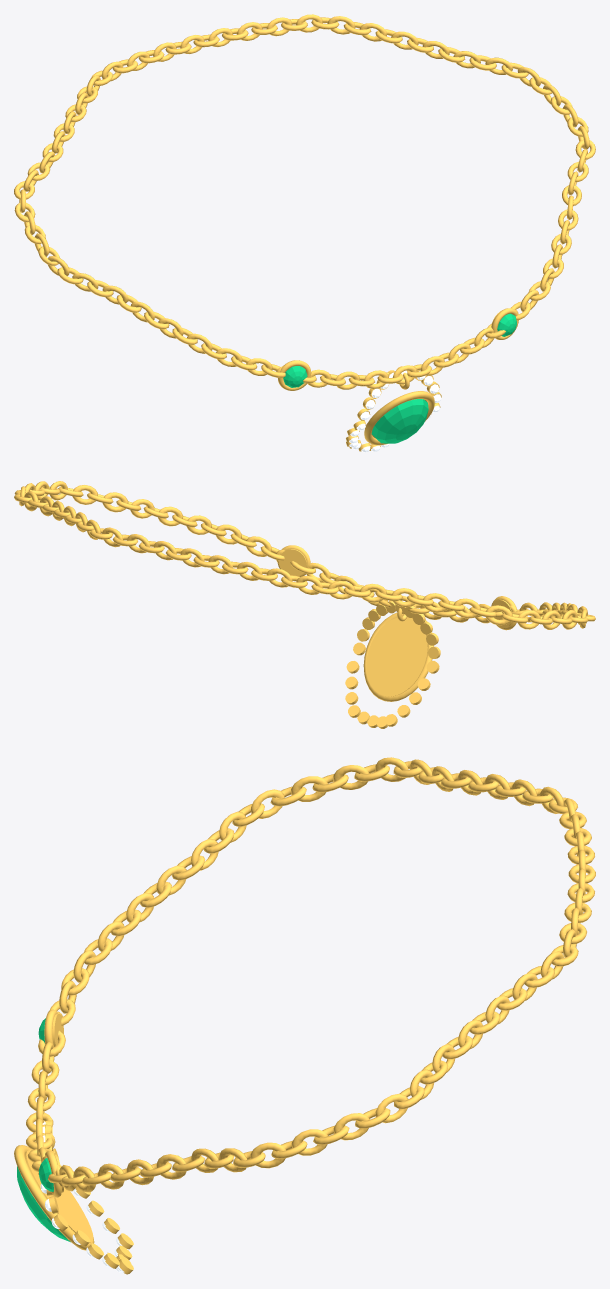
File: beamy-necklace.glb
3 renders of one model, top to bottom at view 1: azimuth 30°, elevation 25°; view 2: azimuth 150°, elevation 25°; view 3: azimuth 270°, elevation 25°, orthographic. The views are drawn at different scales.
Parts seen in each view (by area): view 1: BeamyNecklace; view 2: BeamyNecklace; view 3: BeamyNecklace.
Part boxes in pixels (x1,y1,x2,y2): BeamyNecklace: (14, 14, 595, 452); BeamyNecklace: (14, 481, 595, 728); BeamyNecklace: (14, 757, 595, 1274).
Size of the model in its own units: 0.5447 by 0.2832 by 0.3668.
